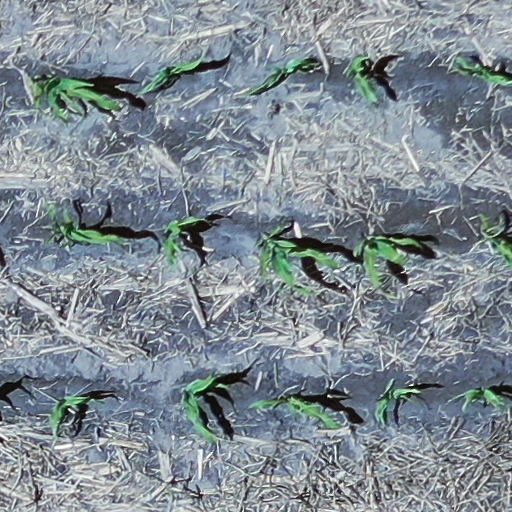planta: (259, 228, 339, 295), (39, 202, 126, 253), (33, 76, 123, 121), (132, 49, 206, 96), (352, 235, 419, 285), (246, 395, 339, 429), (235, 58, 309, 97), (181, 374, 216, 442), (374, 387, 425, 433), (162, 216, 200, 266), (48, 395, 90, 440), (443, 387, 503, 415), (347, 55, 377, 102)
